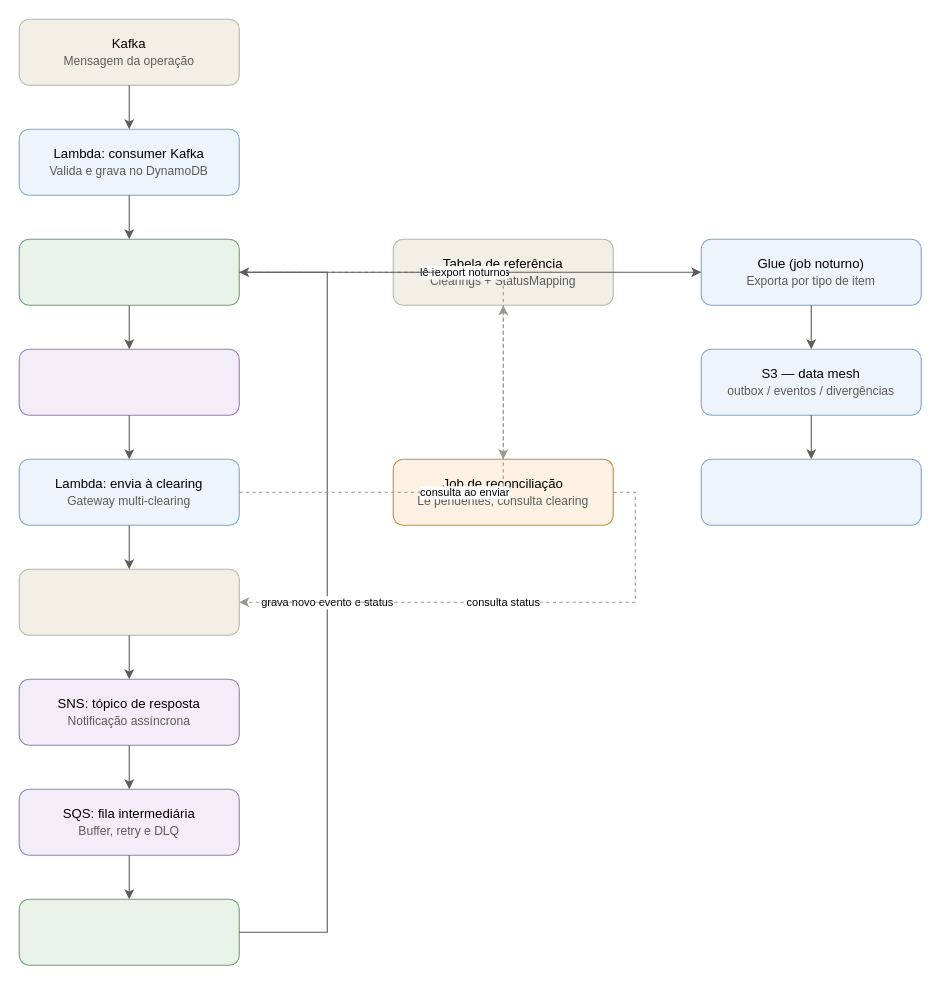
Some shapes in this 941 by 985 pixel diagram are drawn without their labels. Here are the shapes that lost their labels. From the top down, the centre of each, then its label:
At (128,271): "DynamoDB: outbox + tracking Única fonte da verdade".
At (128,381): "DynamoDB Streams Dispara Lambda de envio".
At (810,491): "Athena Consulta analítica / BI".
At (128,601): "B3 / SELIC / CIP Processa, responde depois".
At (128,931): "Lambda: atualiza DynamoDB Correlaciona por IdExterno".
